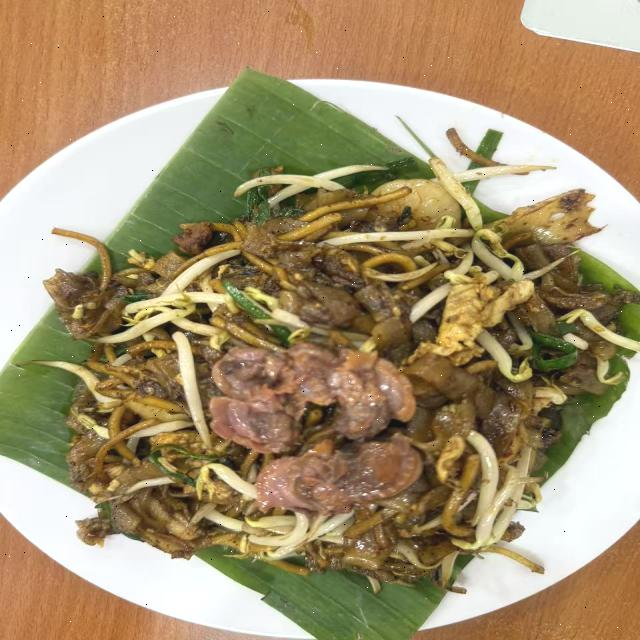Char Kway Teow: (48, 147, 626, 606)
